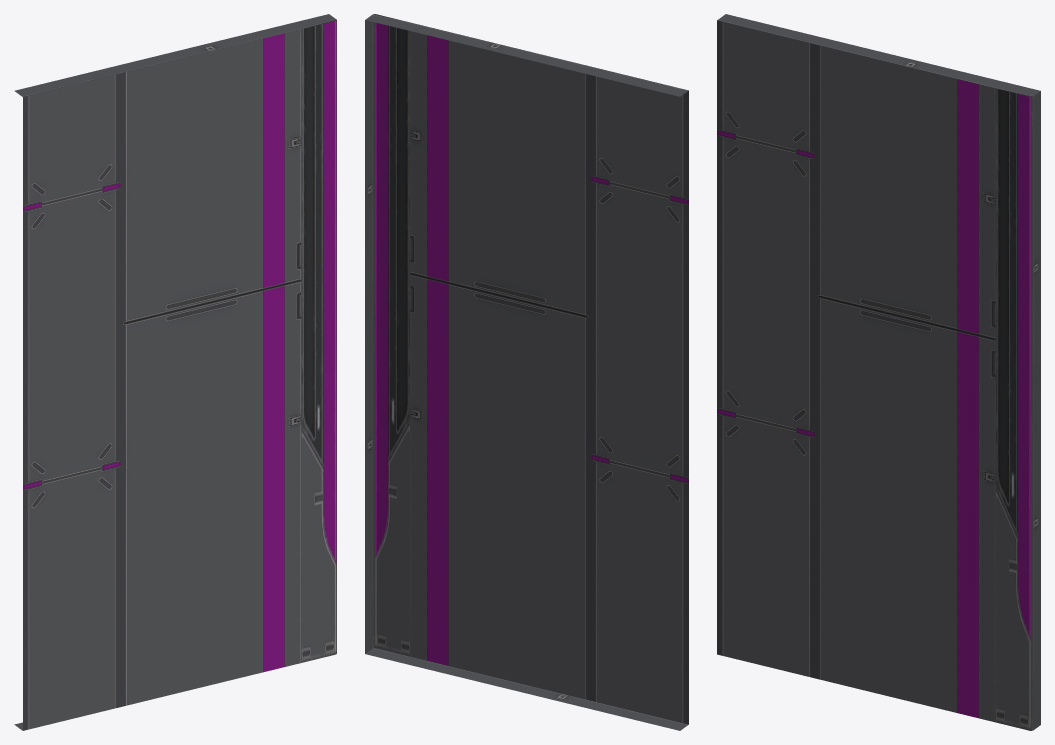
File: Door_Metal.gltf
3 views of the same model, side by side, from view 1: azimuth 30°, elevation 25°; view 2: azimuth 150°, elevation 25°; view 3: azimuth 330°, elevation 25° (orthographic).
Parts seen in each view (by area): view 1: Door_Metal; view 2: Door_Metal; view 3: Door_Metal.
Boxes of the visible parts, x1=… form: Door_Metal: x1=14, y1=14, x2=336, y2=730; Door_Metal: x1=365, y1=14, x2=688, y2=730; Door_Metal: x1=717, y1=14, x2=1040, y2=730.
Size of the model in its own units: 2.11 by 4.05 by 0.1016.
2 materials, 2 textured.
